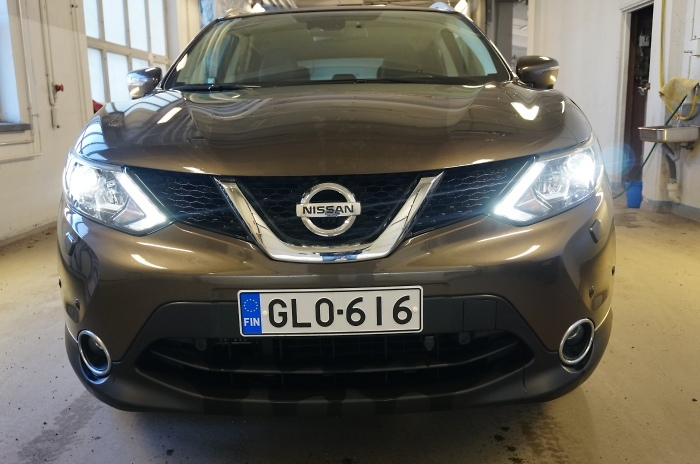license: (233, 285, 421, 339)
